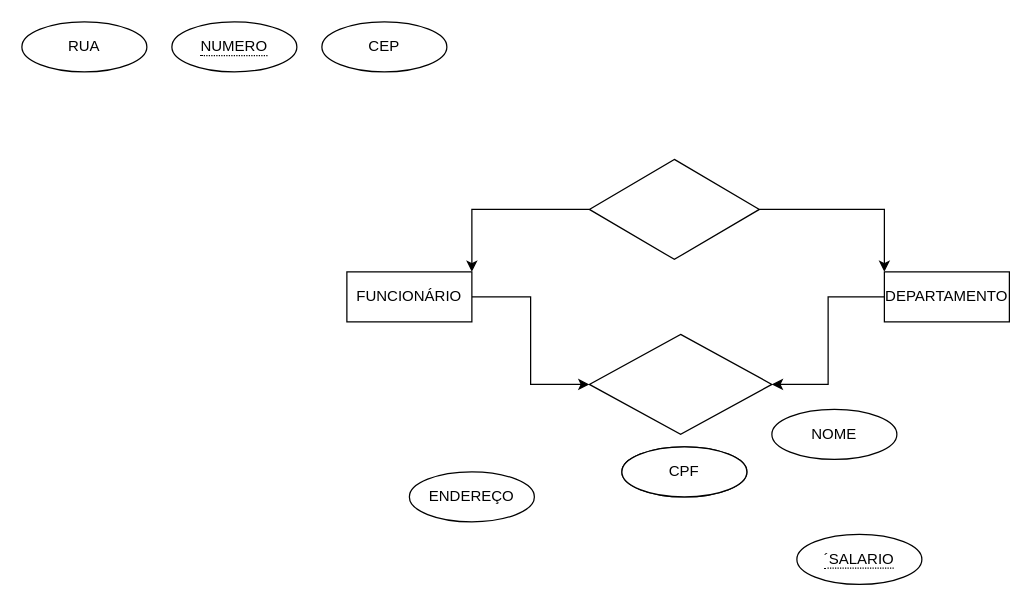
Some shapes in this 1031 by 606 pixel diagram are drawn without their labels. The shapes that lost their labels are listed below. From the top down, each one's centre as x and y in pixels, then its label:
At point 673,208: "TRABALHAR_PARA".
At point 680,383: "GERENCIA".
